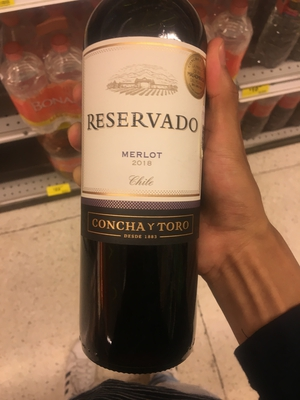reservado merlot: (67, 10, 219, 353)
